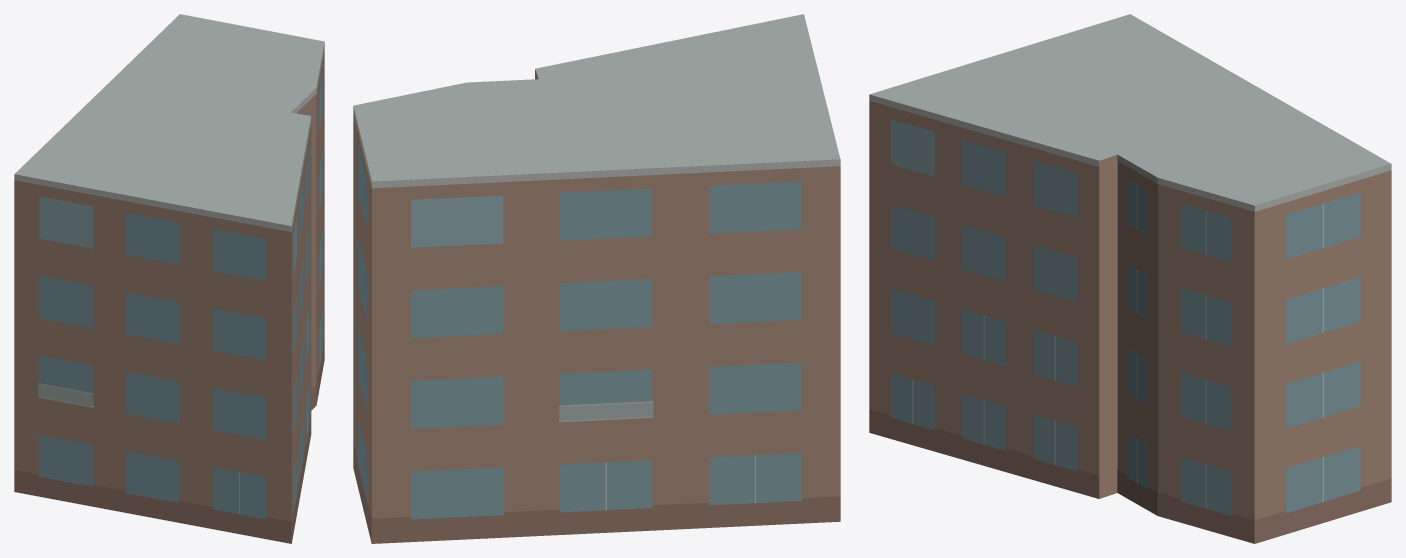
Rendered from survey-upis-32673803.glb.
3 renders of one model, left to right at view 1: azimuth 30°, elevation 25°; view 2: azimuth 150°, elevation 25°; view 3: azimuth 270°, elevation 25°, orthographic. The views are drawn at different scales.
Visible parts, largest first — view 1: survey-upis-32673803.tmp; view 2: survey-upis-32673803.tmp; view 3: survey-upis-32673803.tmp.
Part boxes in pixels (left/top/right/bottom): survey-upis-32673803.tmp: left=14, top=14, right=324, bottom=543; survey-upis-32673803.tmp: left=353, top=14, right=840, bottom=543; survey-upis-32673803.tmp: left=869, top=14, right=1391, bottom=543.
Size of the model in its own units: 15.8 by 13 by 18.2.
